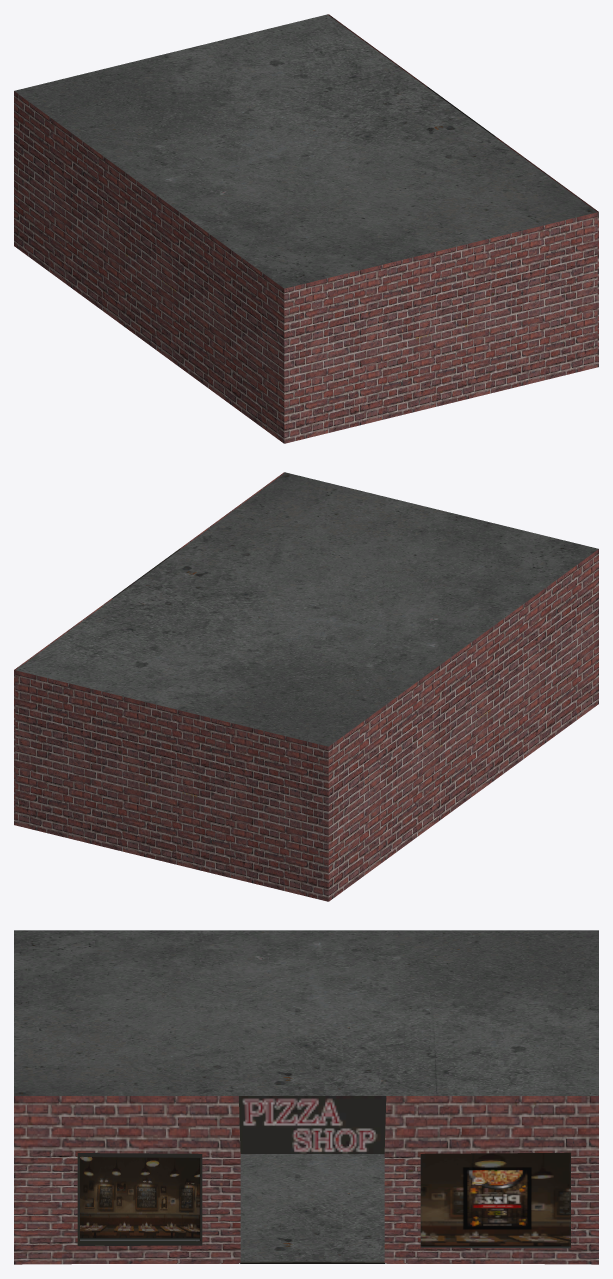
File: pizza_market.fbx
3 renders of one model, top to bottom at view 1: azimuth 30°, elevation 25°; view 2: azimuth 150°, elevation 25°; view 3: azimuth 270°, elevation 25°, orthographic. The views are drawn at different scales.
Visible parts, largest first — view 1: pizza_market; view 2: pizza_market; view 3: pizza_market.
Part boxes in pixels (x1=…): pizza_market: x1=14, y1=14, x2=598, y2=443; pizza_market: x1=14, y1=472, x2=598, y2=901; pizza_market: x1=14, y1=930, x2=598, y2=1264.
Size of the model in its own units: 10.24 by 4.82 by 15.23.
